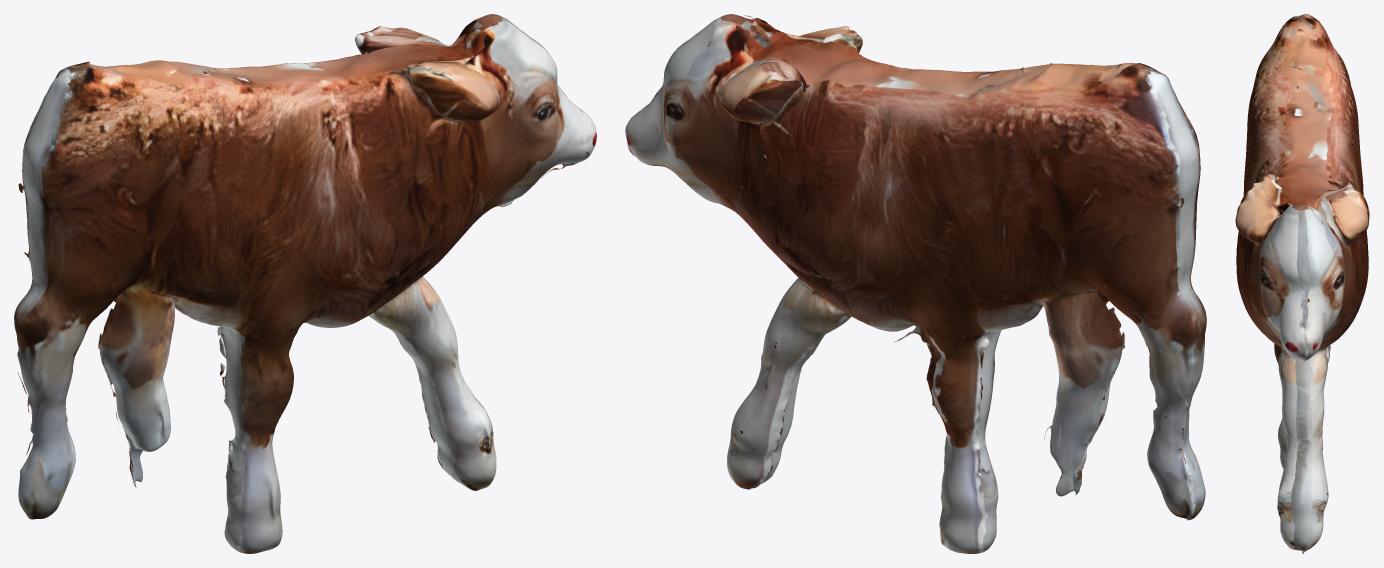
The model's file is bebe.glb.
The picture shows the model from 3 angles, left to right: view 1: azimuth 30°, elevation 25°; view 2: azimuth 150°, elevation 25°; view 3: azimuth 270°, elevation 25°; orthographic projection. The views are drawn at different scales.
Visible parts, largest first — view 1: mesh; view 2: mesh; view 3: mesh.
Part boxes in pixels (<box>): mesh: <box>14,14,596,553</box>; mesh: <box>625,14,1206,553</box>; mesh: <box>1235,14,1369,553</box>.
Size of the model in its own units: 1.67 by 1.46 by 0.4475.
1 material, 1 textured.
